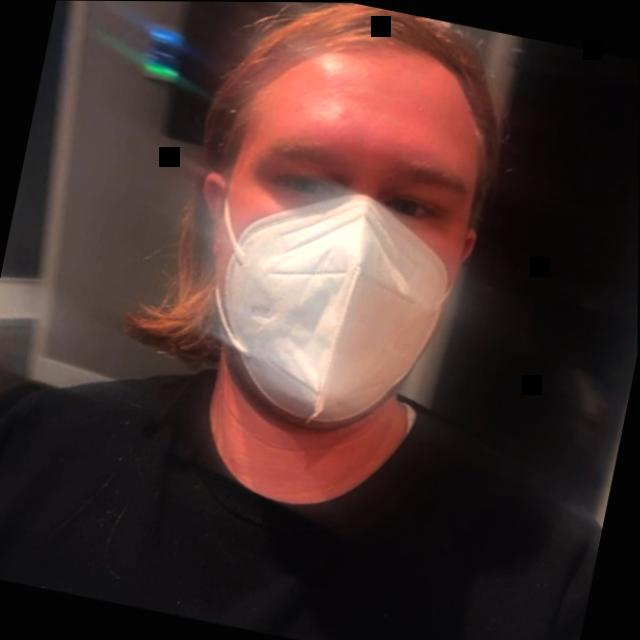Mask: (114, 1, 545, 484)
